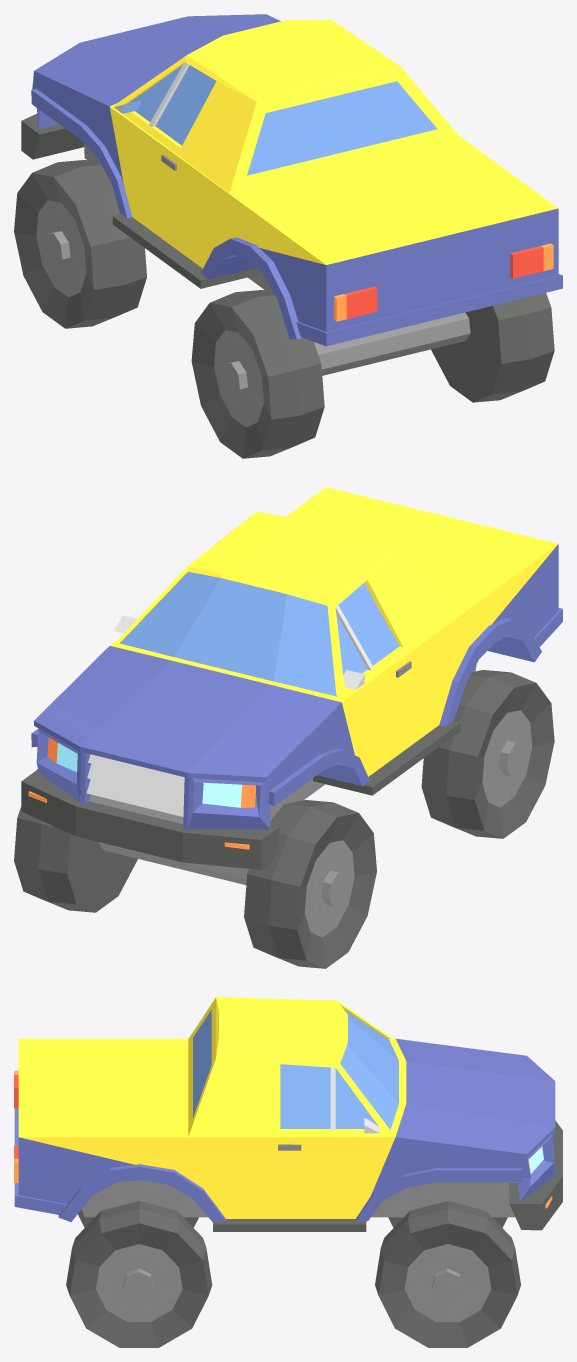
File: transport_jeep.007.glb
3 renders of one model, top to bottom at view 1: azimuth 30°, elevation 25°; view 2: azimuth 150°, elevation 25°; view 3: azimuth 270°, elevation 25°, orthographic. The views are drawn at different scales.
Visible parts, largest first — view 1: transport_jeep.007(Clone); view 2: transport_jeep.007(Clone); view 3: transport_jeep.007(Clone).
Part boxes in pixels (x1,y1,x2,y2): transport_jeep.007(Clone): [14, 14, 562, 458]; transport_jeep.007(Clone): [14, 487, 562, 968]; transport_jeep.007(Clone): [14, 997, 562, 1347].
Size of the model in its own units: 1.92 by 1.97 by 3.68.
1 material, 1 textured.
